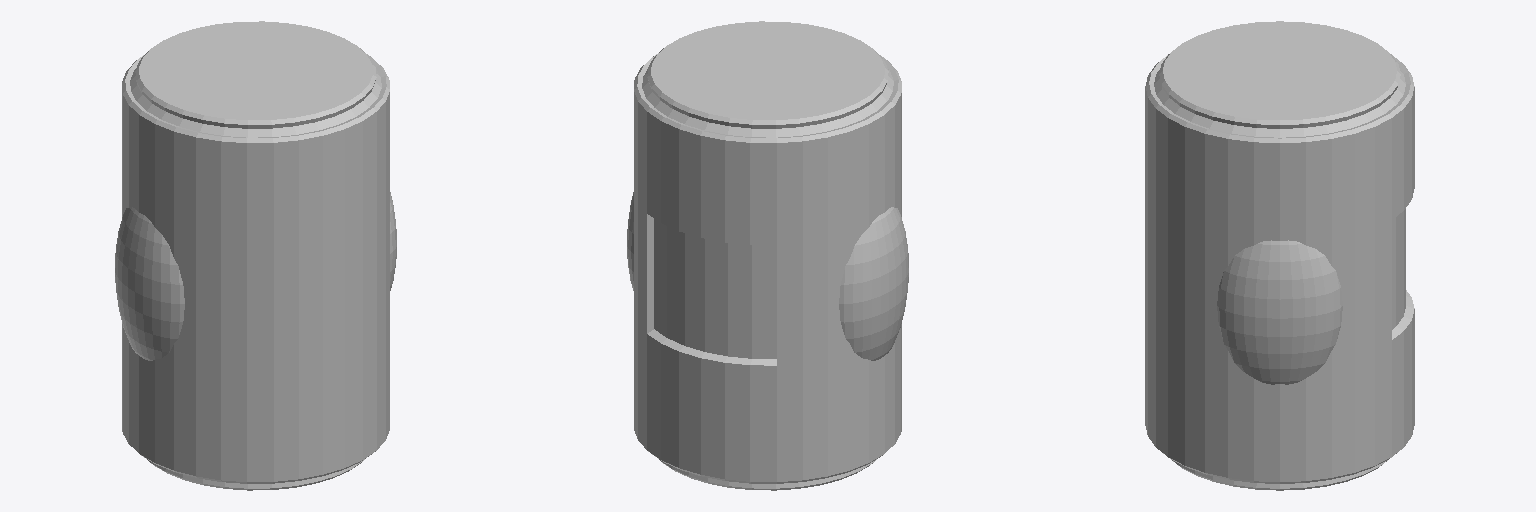
The picture shows the model from 3 angles: view 1: azimuth 30°, elevation 25°; view 2: azimuth 150°, elevation 25°; view 3: azimuth 270°, elevation 25°; orthographic projection.
Parts seen in each view (by area): view 1: Final_Cylinder.002; view 2: Final_Cylinder.002; view 3: Final_Cylinder.002.
Part boxes in pixels (x1,y1,x2,y2): Final_Cylinder.002: (115, 21, 396, 490); Final_Cylinder.002: (627, 21, 908, 490); Final_Cylinder.002: (1145, 21, 1414, 490).
Bounding box in the file's own units: 4.52 × 6.22 × 4.1.